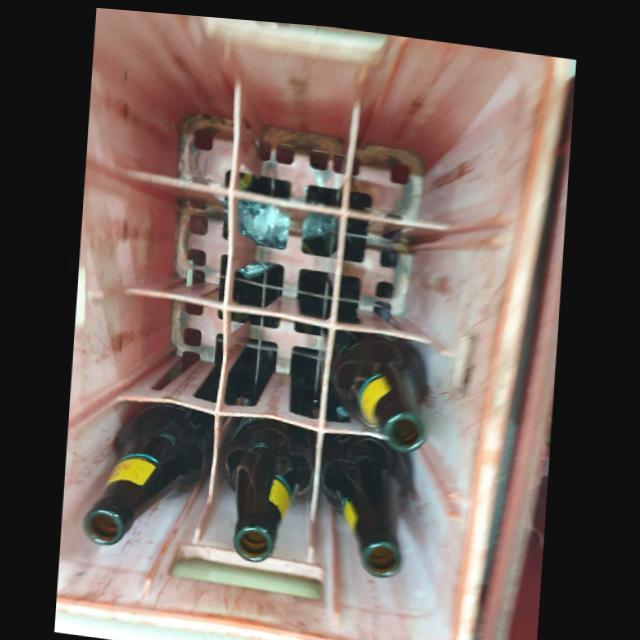glass_bottle: (83, 399, 216, 544), (223, 412, 317, 558), (322, 427, 414, 572), (333, 324, 431, 445)
